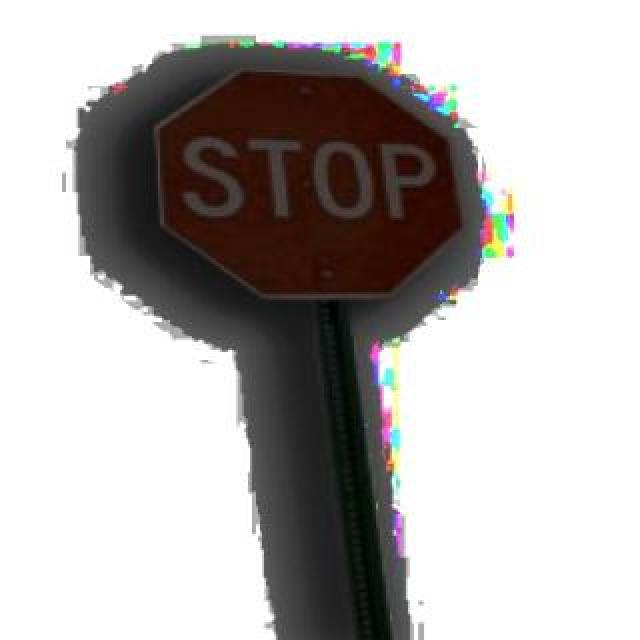stop: (154, 62, 462, 302)
